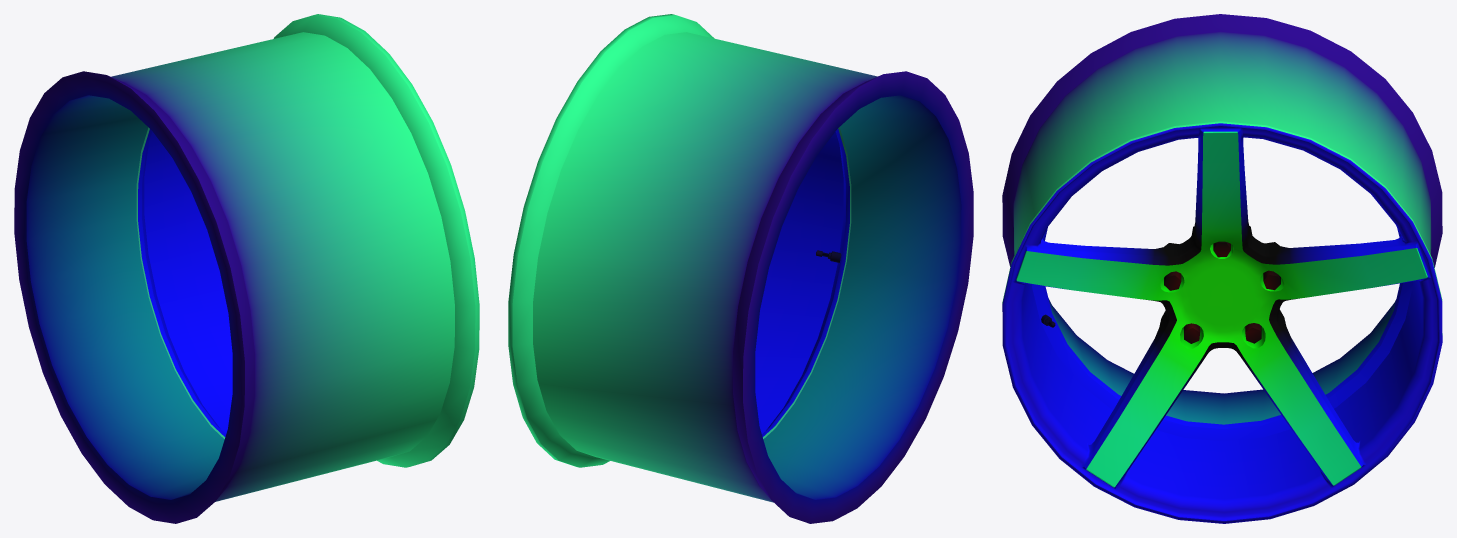
The model's file is vossencv3.fbx.
The picture shows the model from 3 angles, left to right: view 1: azimuth 30°, elevation 25°; view 2: azimuth 150°, elevation 25°; view 3: azimuth 270°, elevation 25°; orthographic projection. The views are drawn at different scales.
Visible parts, largest first — view 1: cv3; view 2: cv3; view 3: cv3.
Boxes of the visible parts, x1,y1,x2,y2 form: cv3: (14,14,479,523); cv3: (508,14,973,523); cv3: (1002,14,1442,523).
Size of the model in its own units: 1441 by 2464 by 2453.
